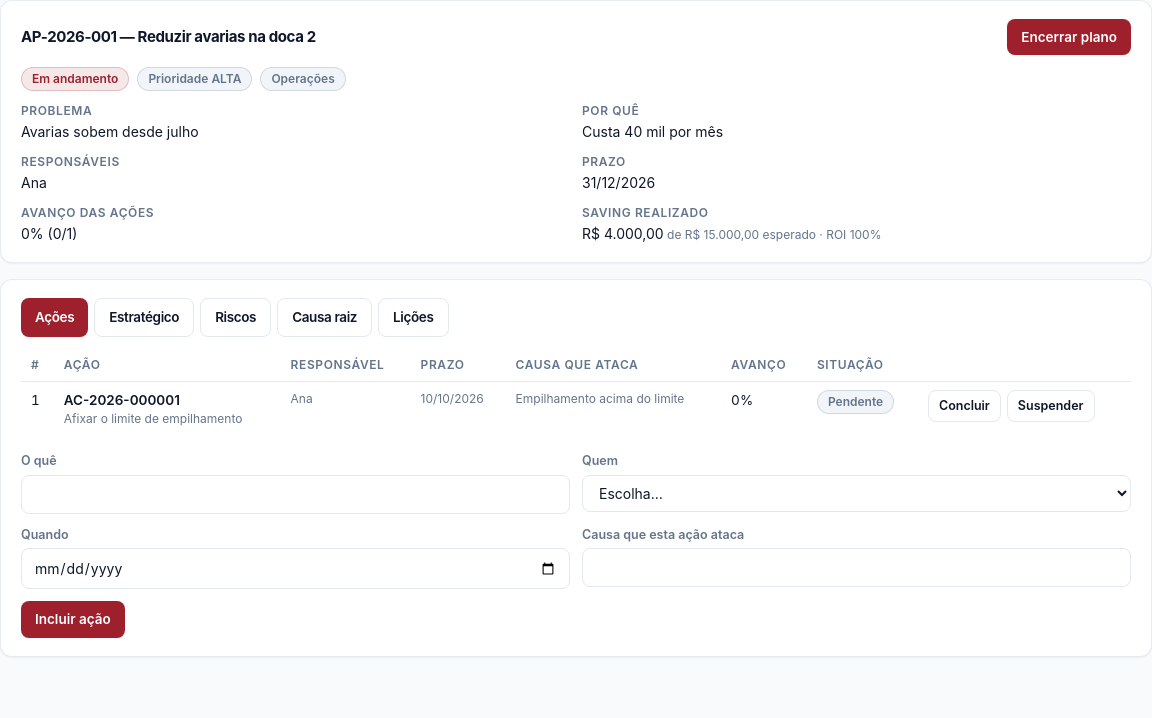
Test: <PlanoDetalhe /> › a severidade do risco vem do servidor, com o ponto à vista
Expected: the element with test id "abas-do-plano" is shown, [21,298,448,337]
What coordinates should you click on to do the following:
click the button "Riscos"
I would click on:
 (236, 317)
Its box is [200,298,271,337].
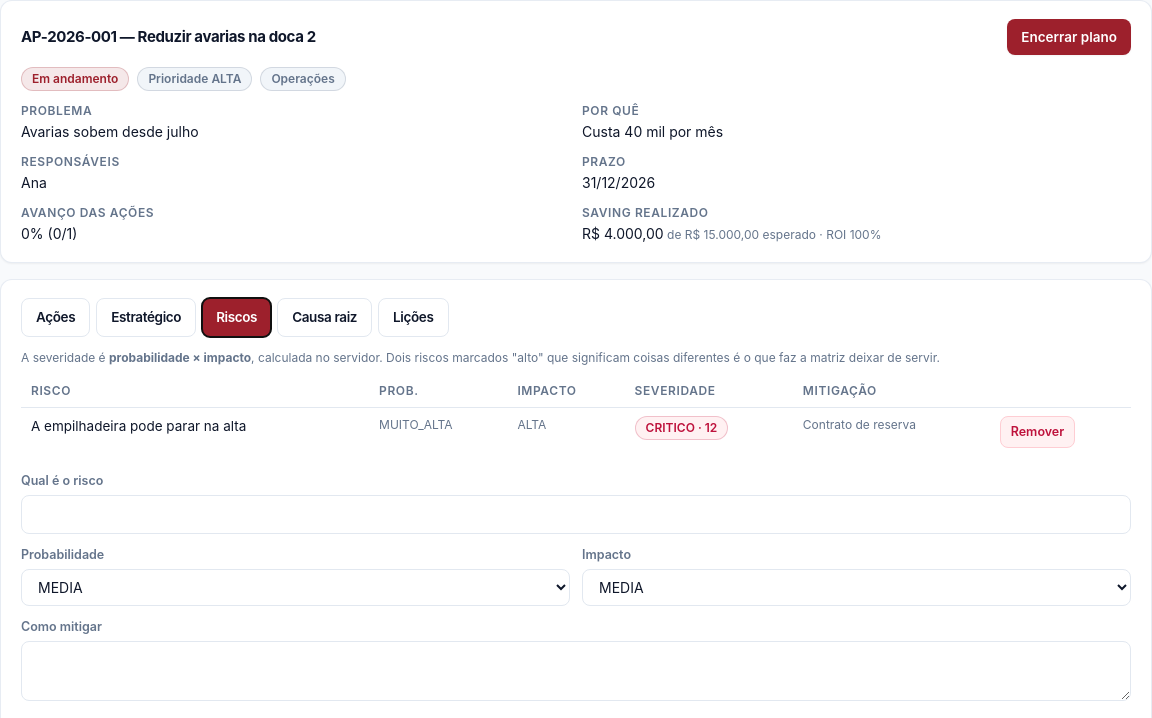
Expected: the text "CRITICO · 12" is shown, [635,416,728,440]
